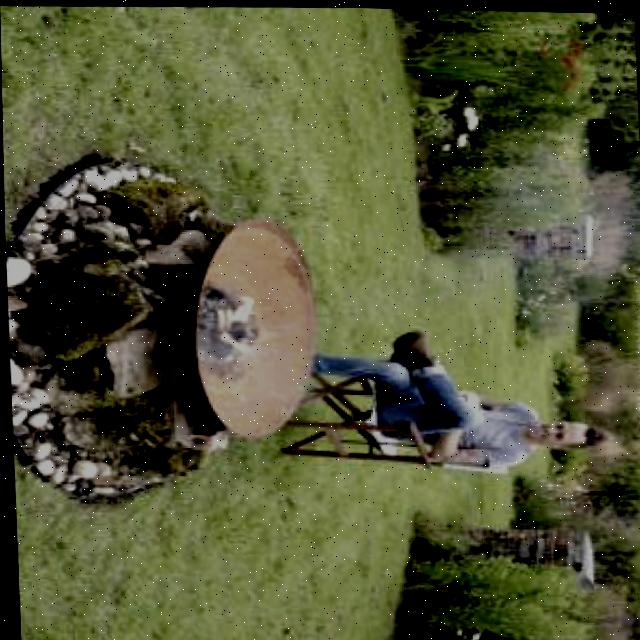Fire: (199, 296, 273, 351)
